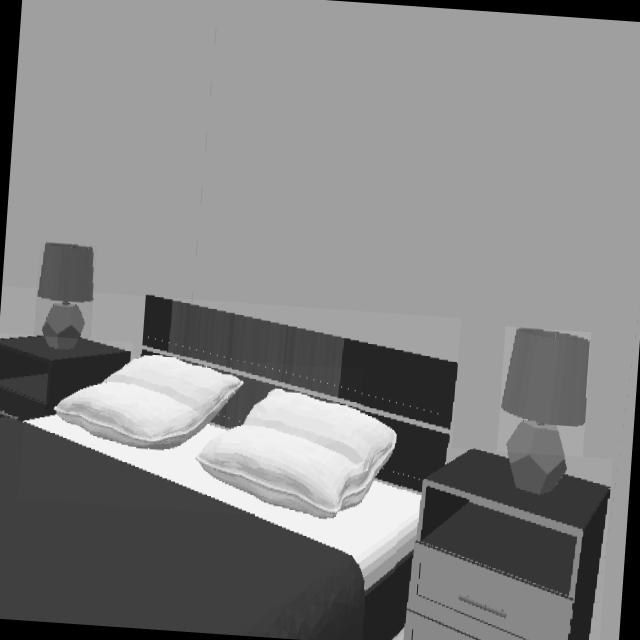bed: (0, 296, 457, 640)
lamp: (500, 327, 590, 495), (36, 242, 93, 348)
nighttable: (394, 450, 609, 640), (0, 335, 132, 420)
pillow: (23, 355, 358, 520)
